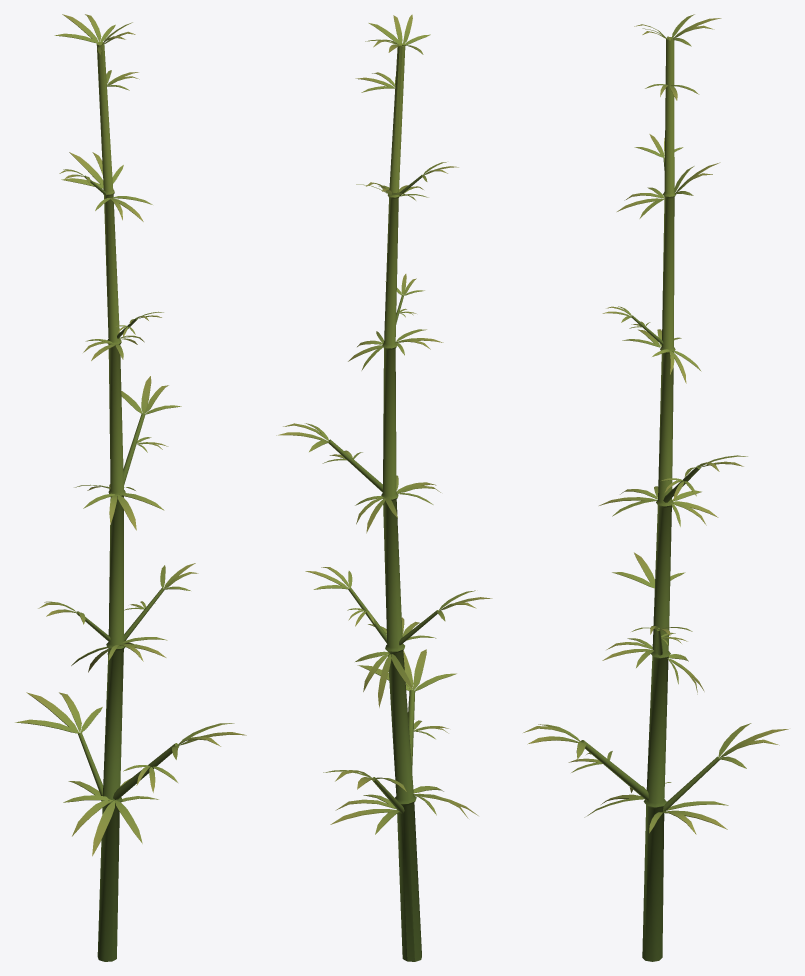
File: Bamboo_01.fbx
3 renders of one model, left to right at view 1: azimuth 30°, elevation 25°; view 2: azimuth 150°, elevation 25°; view 3: azimuth 270°, elevation 25°, orthographic.
Visible parts, largest first — view 1: Bamboo_01_LOD0; view 2: Bamboo_01_LOD0; view 3: Bamboo_01_LOD0.
Part boxes in pixels (x1,y1,x2,y2): Bamboo_01_LOD0: [15, 14, 246, 961]; Bamboo_01_LOD0: [276, 14, 492, 961]; Bamboo_01_LOD0: [523, 14, 788, 961].
Size of what is drawn, in the model's own units: 0.5887 by 3.07 by 0.7971.
